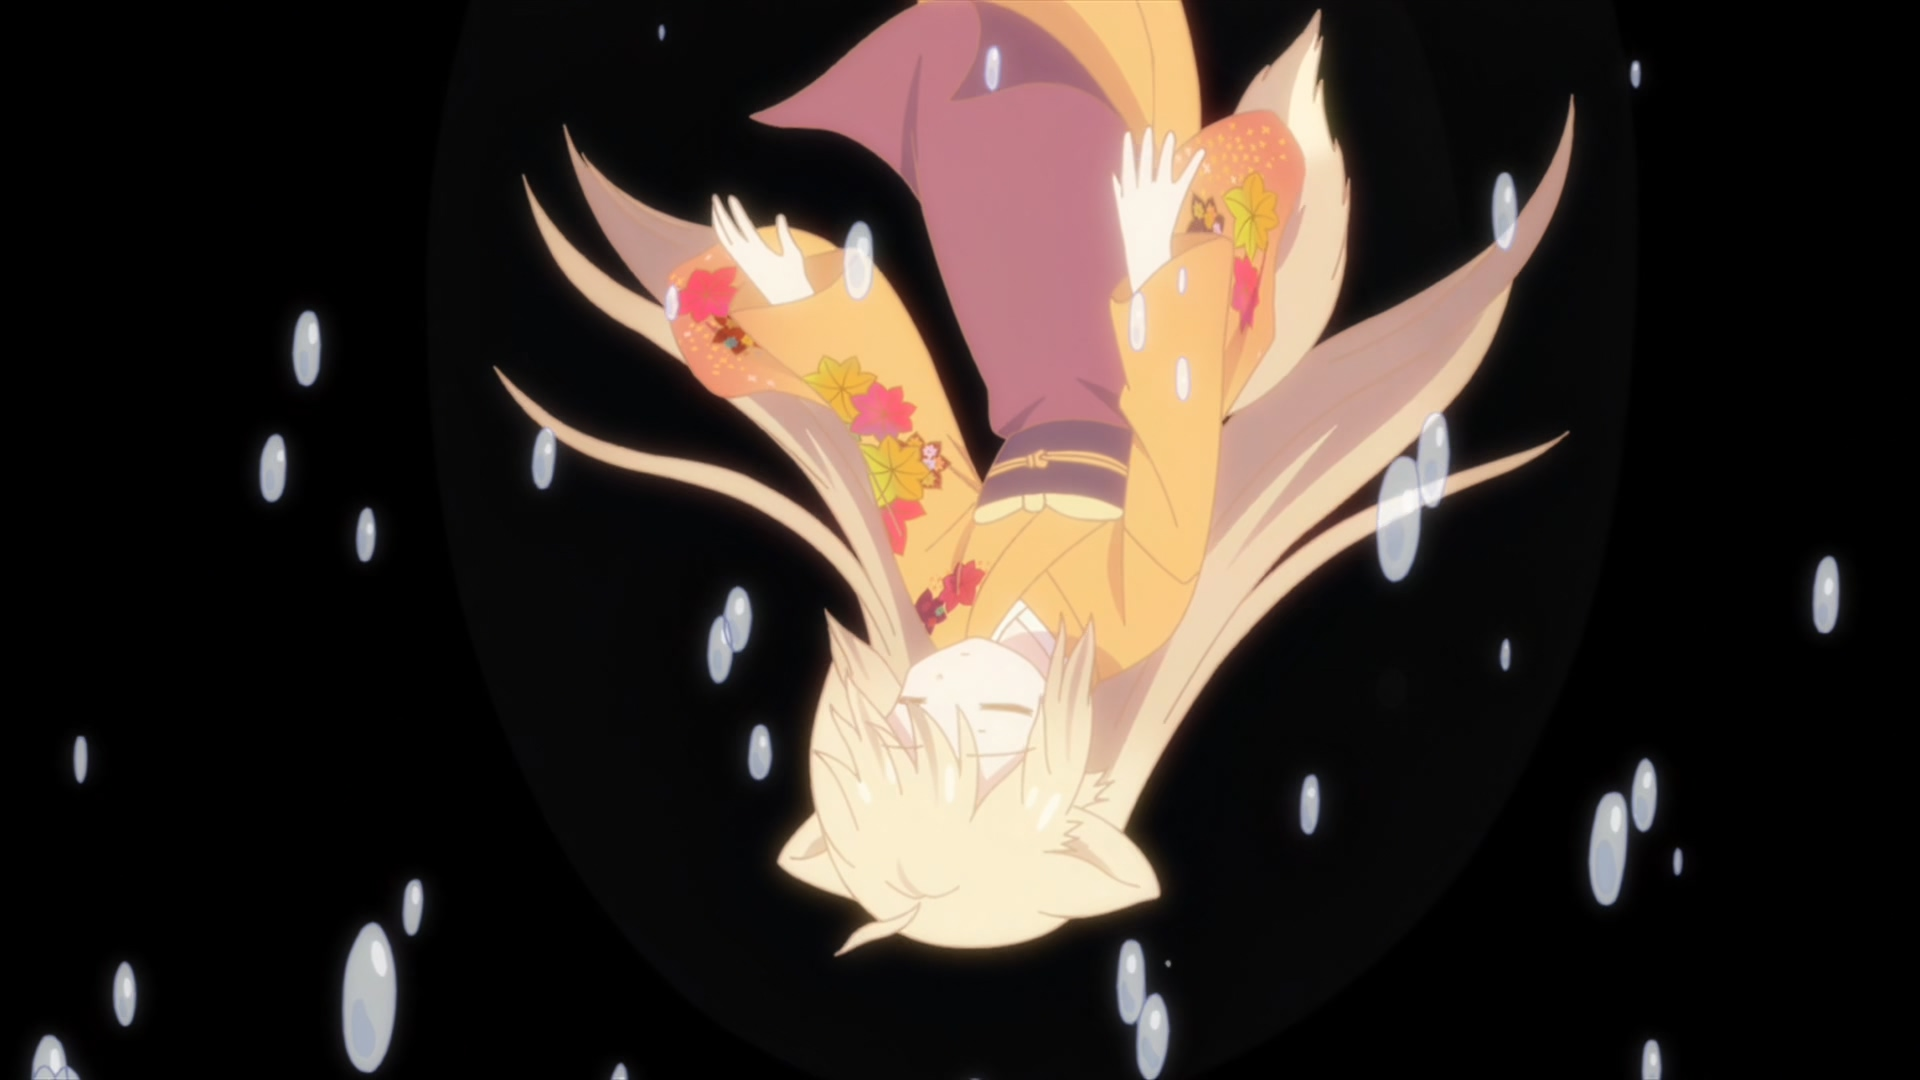柚: (497, 1, 1575, 957)
